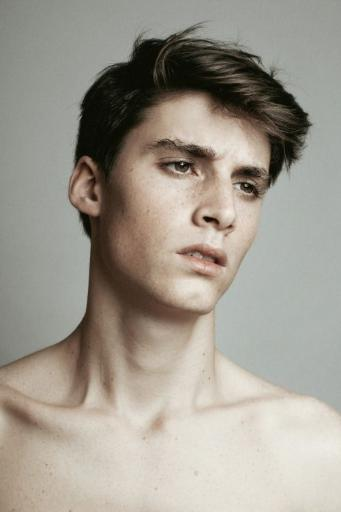left_eye: (233, 180, 261, 198)
left_lip_corner: (218, 261, 231, 273)
right_eye: (157, 159, 204, 181)
right_lip_corner: (173, 248, 188, 265)
